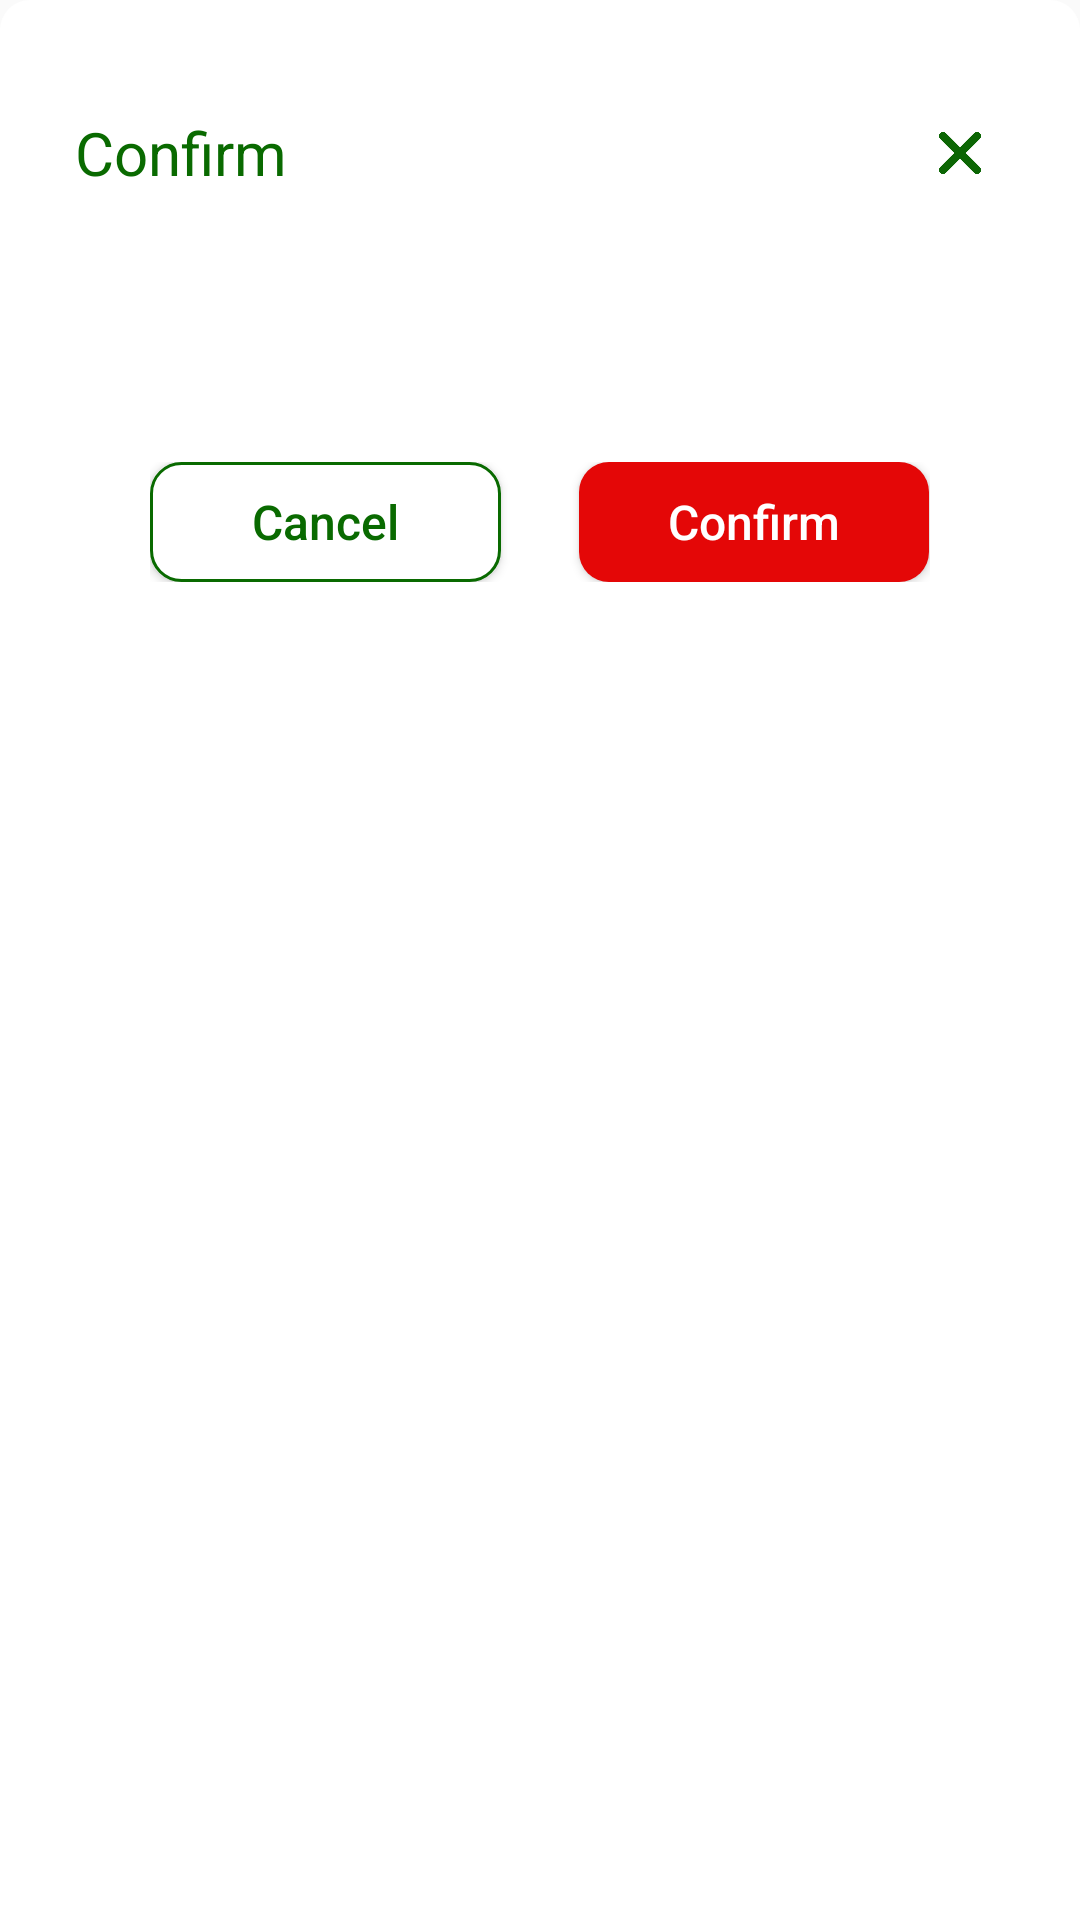

Named icons in this screenshot (1080*1920) and their centers, (x=x, y=y):
cross: (x=960, y=153)
